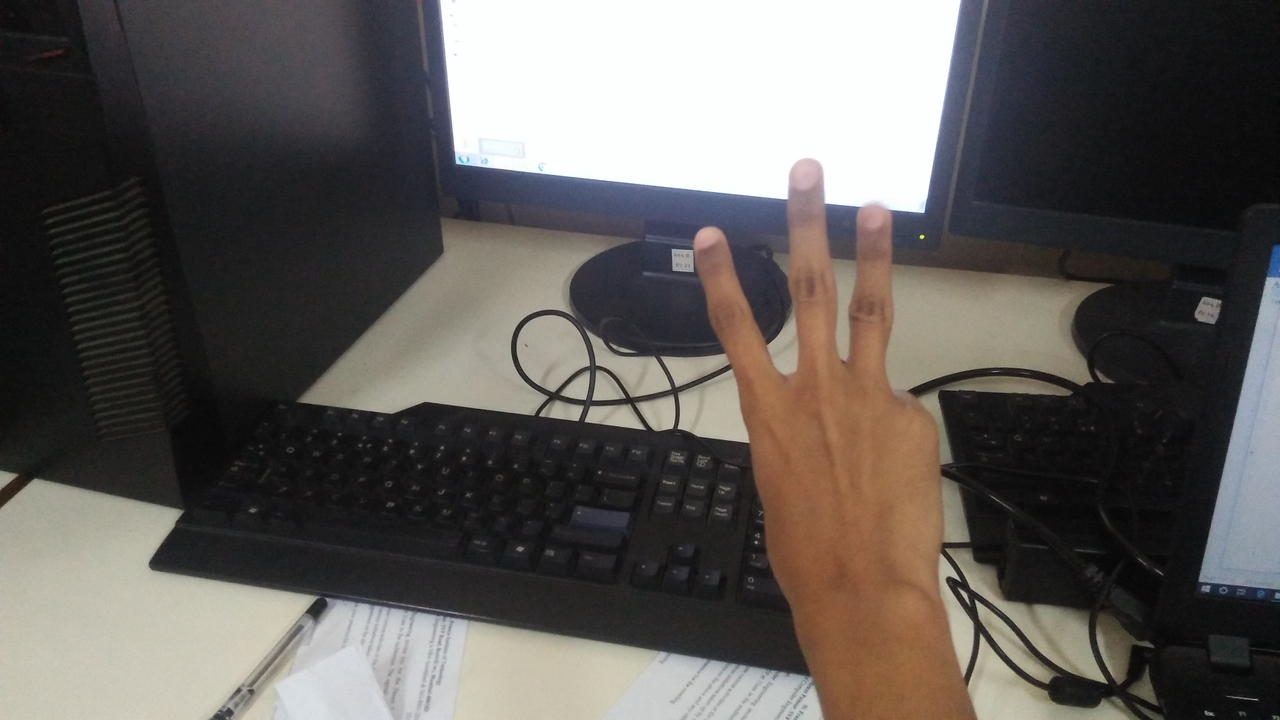fingertip: (686, 218, 738, 268), (782, 150, 834, 196), (852, 196, 900, 236)
